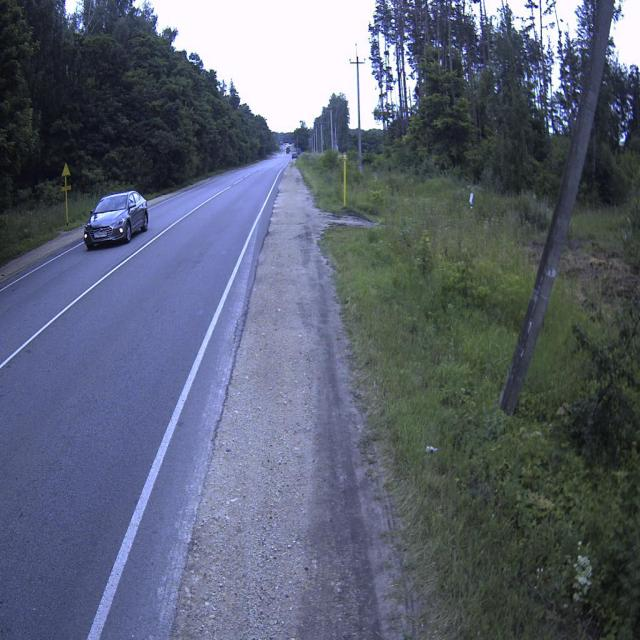road: (0, 153, 292, 639)
